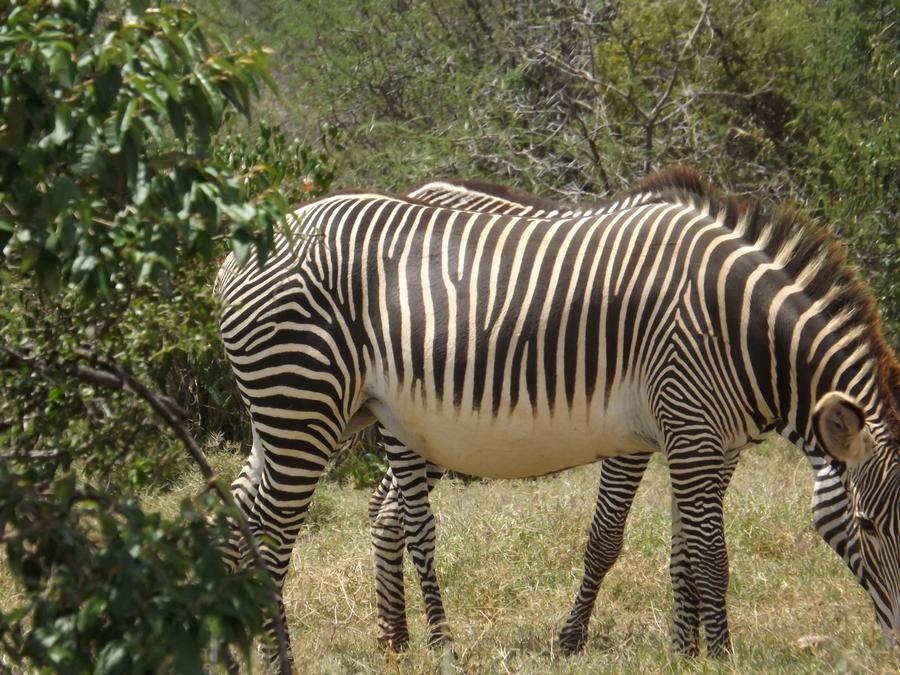zebra_grevys: (220, 159, 741, 452)
